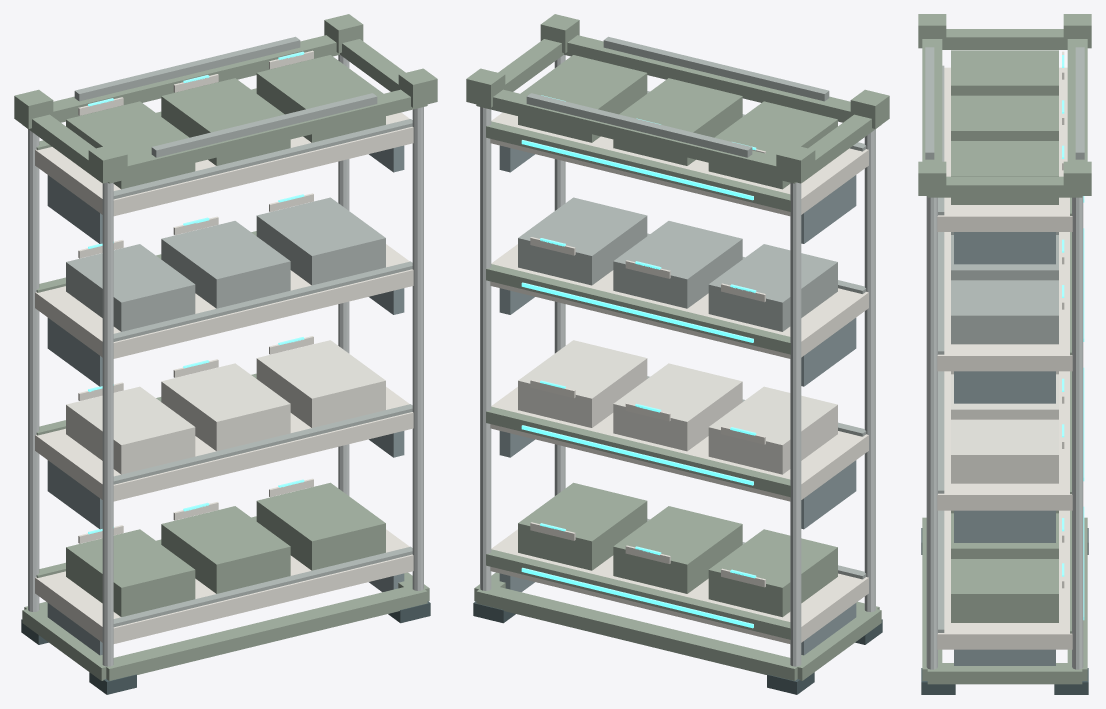
The model's file is s7-e0e1-st01-spares-rack.glb.
The picture shows the model from 3 angles, left to right: view 1: azimuth 30°, elevation 25°; view 2: azimuth 150°, elevation 25°; view 3: azimuth 270°, elevation 25°; orthographic projection. The views are drawn at different scales.
Parts seen in each view (by area): view 1: tray-load-deck-028, tray-load-deck-016, tray-load-deck-022, tray-load-deck-034, storage-bin-054, storage-bin-060, storage-bin-063, storage-bin-069, storage-bin-072, storage-bin-051, rack-long-rail-009, storage-bin-066 (+28 smaller); view 2: rack-long-rail-008, storage-bin-069, storage-bin-063, storage-bin-051, storage-bin-060, storage-bin-054, storage-bin-072, storage-bin-066, storage-bin-048, storage-bin-057, tray-load-deck-028, tray-load-deck-016 (+32 smaller); view 3: storage-bin-063, storage-bin-072, storage-bin-054, chrome-vertical-post-004, chrome-vertical-post-006, tray-load-deck-028, tray-load-deck-022, tray-load-deck-016, tray-load-deck-034, storage-bin-075, storage-bin-078, storage-bin-081 (+26 smaller).
Boxes of the visible parts, x1=… form: tray-load-deck-028: x1=35, y1=244, x2=413, y2=358; tray-load-deck-016: x1=35, y1=529, x2=413, y2=643; tray-load-deck-022: x1=35, y1=387, x2=413, y2=501; tray-load-deck-034: x1=35, y1=112, x2=413, y2=216; storage-bin-054: x1=256, y1=482, x2=385, y2=570; storage-bin-060: x1=161, y1=363, x2=290, y2=451; storage-bin-063: x1=256, y1=340, x2=385, y2=427; storage-bin-069: x1=161, y1=221, x2=290, y2=308; storage-bin-072: x1=256, y1=197, x2=385, y2=285; storage-bin-051: x1=161, y1=506, x2=290, y2=593; rack-long-rail-009: x1=106, y1=585, x2=427, y2=680; storage-bin-066: x1=66, y1=244, x2=195, y2=331; rack-long-rail-008: x1=476, y1=585, x2=797, y2=680; storage-bin-069: x1=613, y1=221, x2=742, y2=308; storage-bin-063: x1=518, y1=340, x2=647, y2=427; storage-bin-051: x1=613, y1=506, x2=742, y2=593; storage-bin-060: x1=613, y1=363, x2=742, y2=451; storage-bin-054: x1=518, y1=482, x2=647, y2=570; storage-bin-072: x1=518, y1=197, x2=647, y2=285; storage-bin-066: x1=708, y1=244, x2=837, y2=331; storage-bin-048: x1=708, y1=529, x2=837, y2=617; storage-bin-057: x1=708, y1=386, x2=837, y2=474; tray-load-deck-028: x1=490, y1=244, x2=868, y2=358; tray-load-deck-016: x1=490, y1=529, x2=868, y2=643; storage-bin-063: x1=951, y1=419, x2=1058, y2=483; storage-bin-072: x1=951, y1=280, x2=1058, y2=344; storage-bin-054: x1=951, y1=559, x2=1058, y2=622; chrome-vertical-post-004: x1=1072, y1=196, x2=1083, y2=669; chrome-vertical-post-006: x1=926, y1=196, x2=937, y2=669; tray-load-deck-028: x1=937, y1=232, x2=1072, y2=371; tray-load-deck-022: x1=937, y1=371, x2=1072, y2=510; tray-load-deck-016: x1=937, y1=510, x2=1072, y2=649; tray-load-deck-034: x1=937, y1=67, x2=1072, y2=231; storage-bin-075: x1=951, y1=50, x2=1058, y2=95; storage-bin-078: x1=951, y1=95, x2=1058, y2=140; storage-bin-081: x1=951, y1=141, x2=1058, y2=204.
Bounding box in the file's own units: 1.22 × 1.87 × 0.56.
